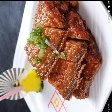hongshaodaiyu: (23, 0, 105, 100)
